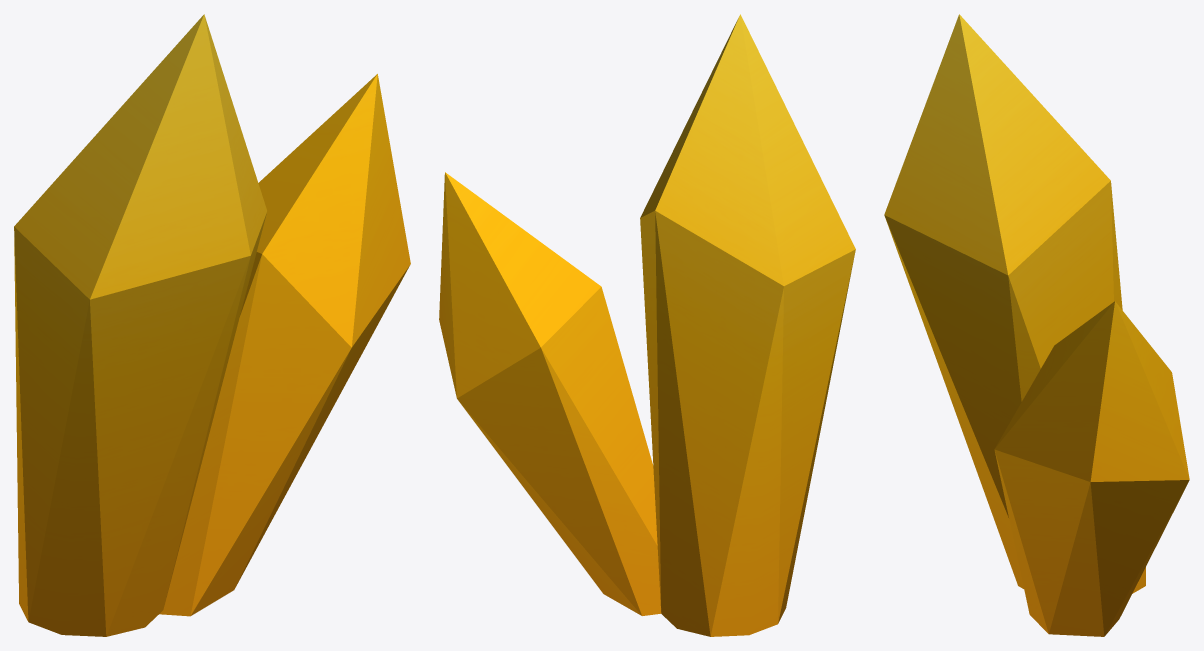
The model's file is Crystal_yellow_03.fbx.
3 renders of one model, left to right at view 1: azimuth 30°, elevation 25°; view 2: azimuth 150°, elevation 25°; view 3: azimuth 270°, elevation 25°, orthographic. The views are drawn at different scales.
Parts seen in each view (by area): view 1: Crystal_yellow_03; view 2: Crystal_yellow_03; view 3: Crystal_yellow_03.
Part boxes in pixels (bbox=[...]): Crystal_yellow_03: bbox=[14, 14, 410, 636]; Crystal_yellow_03: bbox=[439, 14, 855, 636]; Crystal_yellow_03: bbox=[884, 14, 1189, 636].
Size of the model in its own units: 108 by 165 by 76.63.
